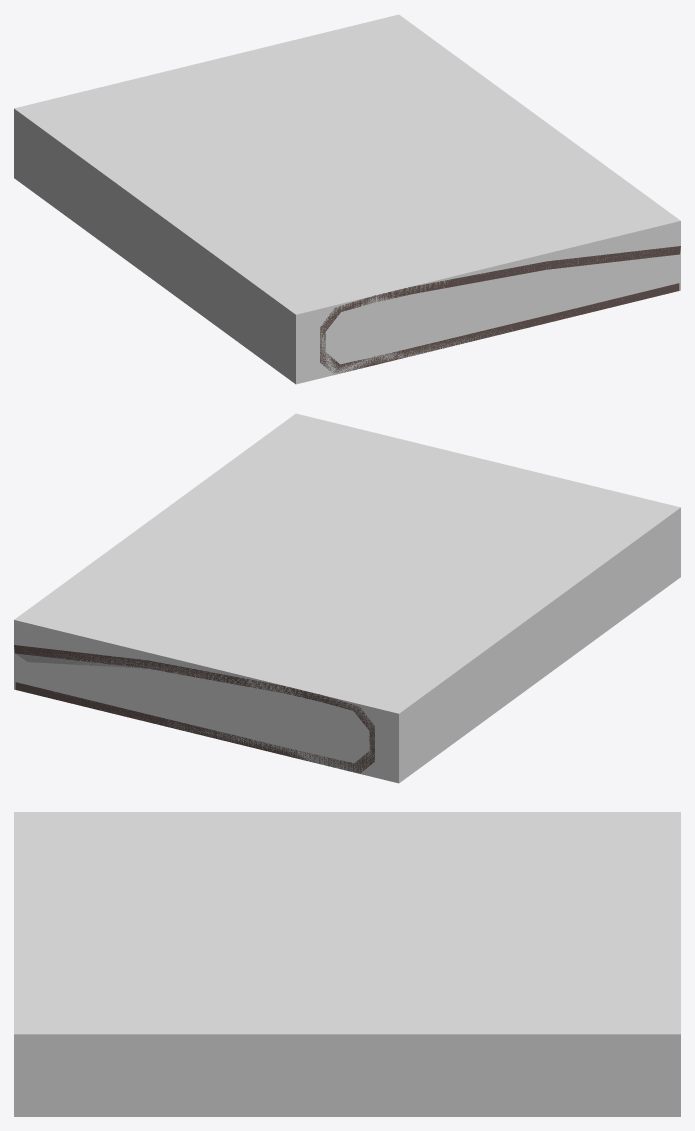
Rendered from Notebook.002.fbx.
3 views of the same model, one above another, from view 1: azimuth 30°, elevation 25°; view 2: azimuth 150°, elevation 25°; view 3: azimuth 270°, elevation 25° (orthographic). The views are drawn at different scales.
Parts seen in each view (by area): view 1: Notebook.002_COL0, Notebook.002_LOD0; view 2: Notebook.002_COL0, Notebook.002_LOD0; view 3: Notebook.002_COL0.
Boxes of the visible parts, x1,y1,x2,y2 form: Notebook.002_COL0: [14, 14, 680, 384]; Notebook.002_LOD0: [320, 246, 680, 374]; Notebook.002_COL0: [14, 413, 680, 783]; Notebook.002_LOD0: [14, 645, 374, 773]; Notebook.002_COL0: [14, 812, 680, 1116].
Size of what is drawn, in the model's own units: 0.4621 by 0.0799 by 0.5861.
